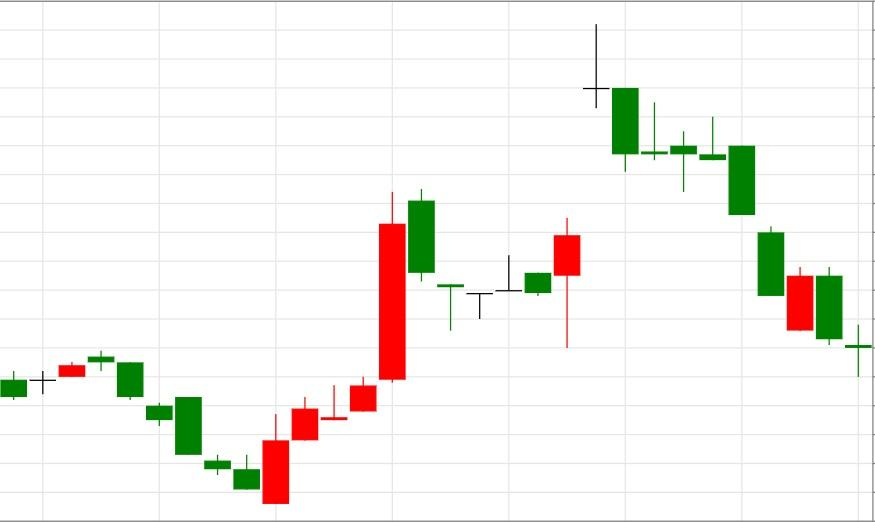three_black_crows_fall: (0, 350, 174, 427)
